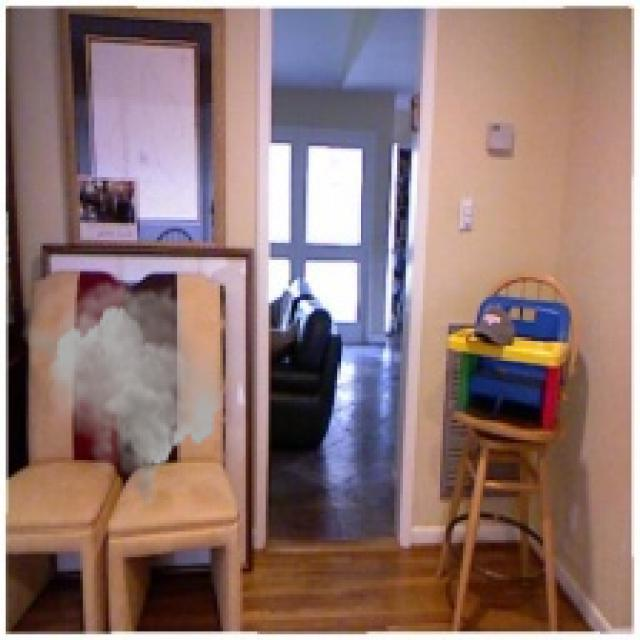smoke: (20, 274, 226, 512)
